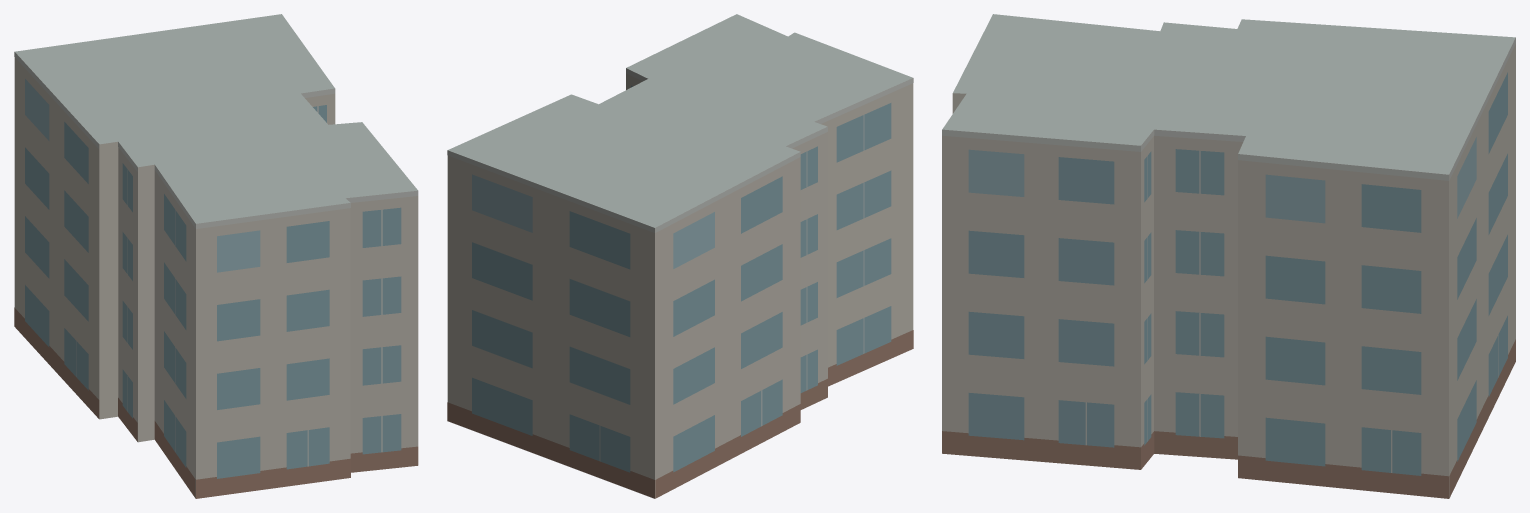
Rendered from survey-upis-32931585.glb.
3 views of the same model, side by side, from view 1: azimuth 30°, elevation 25°; view 2: azimuth 150°, elevation 25°; view 3: azimuth 270°, elevation 25° (orthographic). The views are drawn at different scales.
Parts seen in each view (by area): view 1: survey-upis-32931585.tmp; view 2: survey-upis-32931585.tmp; view 3: survey-upis-32931585.tmp.
Part boxes in pixels (x1,y1,x2,y2): survey-upis-32931585.tmp: (14, 14, 418, 498); survey-upis-32931585.tmp: (447, 14, 913, 498); survey-upis-32931585.tmp: (942, 14, 1515, 498).
Size of the model in its own units: 13.63 by 12.8 by 20.54.
